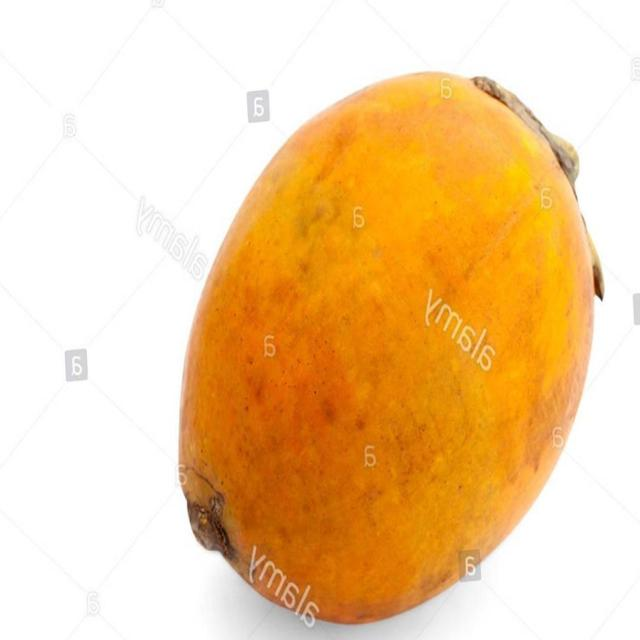good: (176, 71, 602, 627)
